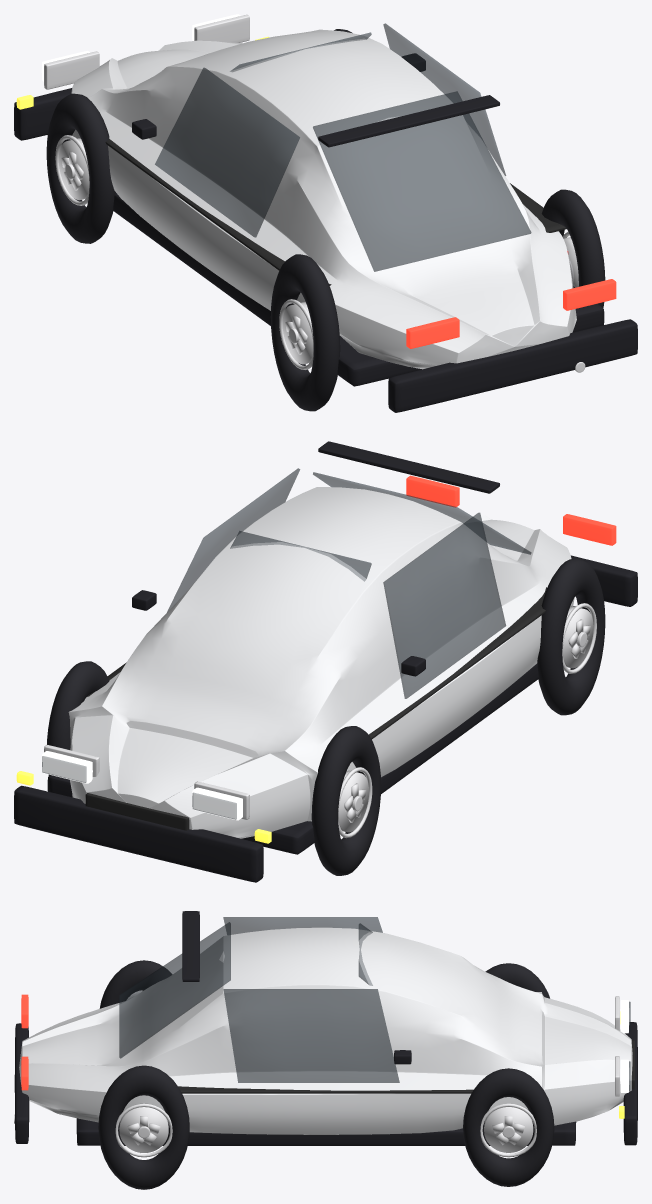
Rendered from car_rs86.glb.
3 views of the same model, one above another, from view 1: azimuth 30°, elevation 25°; view 2: azimuth 150°, elevation 25°; view 3: azimuth 270°, elevation 25° (orthographic). The views are drawn at different scales.
Visible parts, largest first — view 1: H86_Body, H86_RG, H86_SG-1, H86_BumperR, Wheel_RL_Tire, Wheel_FL_Tire, H86_Rocker, Wheel_RR_Tire, H86_SG1, H86_Spoiler, H86_Belt, H86_BumperF (+8 smaller); view 2: H86_Body, H86_SG-1, H86_BumperF, Wheel_RL_Tire, Wheel_FL_Tire, H86_Rocker, H86_SG1, Wheel_FR_Tire, H86_Spoiler, H86_RG, H86_Belt, H86_BumperR (+10 smaller); view 3: H86_Body, H86_SG1, H86_RG, Wheel_RR_Tire, Wheel_FR_Tire, H86_Rocker, H86_SG-1, Wheel_RL_Tire, H86_Belt, Wheel_FR_Barrel, Wheel_RR_Barrel, H86_Spoiler (+6 smaller).
Boxes of the visible parts, box(x1,y1,x2,y2) form: H86_Body: box(71, 29, 576, 369); H86_RG: box(313, 91, 531, 271); H86_SG-1: box(155, 67, 299, 237); H86_BumperR: box(388, 319, 637, 412); Wheel_RL_Tire: box(270, 254, 340, 411); Wheel_FL_Tire: box(46, 93, 115, 243); H86_Rocker: box(113, 192, 604, 386); Wheel_RR_Tire: box(541, 189, 605, 307); H86_SG1: box(383, 23, 505, 175); H86_Spoiler: box(318, 95, 499, 147); H86_Belt: box(105, 139, 566, 285); H86_BumperF: box(14, 88, 71, 140); H86_Body: box(68, 487, 574, 838); H86_SG-1: box(383, 512, 505, 698); H86_BumperF: box(14, 785, 263, 882); Wheel_RL_Tire: box(537, 558, 605, 715); Wheel_FL_Tire: box(311, 726, 381, 875); H86_Rocker: box(47, 606, 575, 854); H86_SG1: box(167, 468, 299, 611); Wheel_FR_Tire: box(47, 661, 109, 775); H86_Spoiler: box(318, 441, 499, 493); H86_RG: box(313, 472, 531, 554); H86_Belt: box(87, 587, 546, 739); H86_BumperR: box(571, 555, 637, 606); H86_Body: box(19, 927, 632, 1134); H86_SG1: box(223, 989, 399, 1082); H86_RG: box(119, 922, 230, 1058); Wheel_RR_Tire: box(98, 1065, 189, 1189); Wheel_FR_Tire: box(463, 1068, 554, 1186); H86_Rocker: box(76, 1118, 576, 1145); H86_SG-1: box(223, 917, 382, 934); Wheel_RL_Tire: box(99, 960, 172, 1008); H86_Belt: box(143, 990, 473, 1093); Wheel_FR_Barrel: box(484, 1107, 533, 1152); Wheel_RR_Barrel: box(119, 1103, 168, 1152); H86_Spoiler: box(182, 911, 199, 981).
Bounding box in the file's own units: 1.86 × 1.44 × 4.24.
